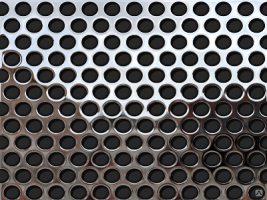Hole: (201, 83, 224, 102), (168, 99, 191, 118), (235, 99, 257, 118), (223, 83, 246, 101), (90, 150, 113, 168), (1, 49, 22, 68), (35, 66, 56, 85), (179, 83, 200, 102), (191, 100, 212, 119), (179, 16, 201, 34), (112, 17, 134, 35), (156, 117, 178, 135), (113, 117, 135, 135), (90, 117, 112, 135), (1, 117, 23, 135), (235, 133, 257, 151), (201, 150, 223, 168), (68, 151, 91, 168), (224, 16, 244, 35), (247, 83, 267, 102), (80, 99, 100, 118), (225, 149, 245, 168), (246, 16, 267, 34), (13, 67, 34, 85), (102, 100, 123, 118), (135, 116, 156, 134), (46, 116, 67, 134), (246, 150, 267, 168), (124, 33, 146, 50), (46, 84, 68, 101), (57, 134, 79, 151), (24, 151, 46, 168), (203, 16, 222, 35), (125, 66, 144, 85), (214, 100, 233, 119), (13, 33, 33, 51), (202, 49, 222, 67), (24, 49, 44, 67), (80, 66, 100, 84), (114, 83, 134, 101), (146, 100, 166, 118), (180, 117, 200, 135), (70, 117, 90, 135), (180, 150, 200, 168), (3, 150, 23, 168), (214, 168, 234, 186), (236, 167, 256, 185), (13, 1, 34, 18), (79, 34, 100, 51), (191, 34, 212, 51), (90, 50, 111, 67), (91, 83, 112, 100), (224, 117, 245, 134), (203, 118, 224, 135), (35, 133, 56, 150), (157, 150, 178, 167), (135, 150, 156, 167), (191, 168, 212, 185), (247, 49, 266, 67), (192, 66, 211, 84), (214, 66, 233, 84), (236, 66, 255, 84), (58, 100, 77, 118), (248, 117, 267, 135), (25, 116, 44, 134), (80, 133, 99, 151), (58, 166, 77, 184), (158, 17, 178, 34), (135, 17, 155, 34), (92, 17, 112, 34), (69, 17, 89, 34), (2, 17, 22, 34), (35, 33, 55, 50), (58, 34, 78, 51), (169, 33, 189, 50), (224, 50, 244, 67), (114, 50, 134, 67), (69, 50, 89, 67), (47, 50, 67, 67), (69, 83, 89, 100), (24, 84, 44, 101), (2, 84, 22, 101), (35, 101, 55, 118), (124, 100, 144, 117), (102, 134, 122, 151), (125, 134, 145, 151), (191, 134, 211, 151), (114, 151, 134, 168), (35, 167, 55, 184), (80, 167, 100, 184), (124, 167, 144, 184), (24, 17, 45, 33), (135, 84, 156, 100), (213, 134, 234, 150), (46, 151, 67, 167), (136, 50, 154, 68), (58, 1, 77, 18), (147, 1, 166, 18), (214, 34, 233, 51), (236, 33, 255, 50), (180, 50, 199, 67), (158, 50, 177, 67), (58, 66, 77, 83), (169, 67, 188, 84), (158, 83, 177, 100), (147, 134, 166, 151), (169, 134, 188, 151), (147, 167, 166, 184), (35, 1, 55, 17), (80, 1, 100, 17), (102, 1, 122, 17), (169, 1, 189, 17), (191, 1, 211, 17), (147, 34, 167, 50), (14, 101, 34, 117), (14, 167, 34, 183), (169, 168, 189, 184), (235, 1, 256, 16), (103, 67, 121, 84), (14, 133, 32, 150), (125, 1, 144, 17), (213, 1, 232, 17), (47, 17, 66, 33), (102, 34, 121, 50), (148, 66, 165, 83), (103, 168, 121, 184)
